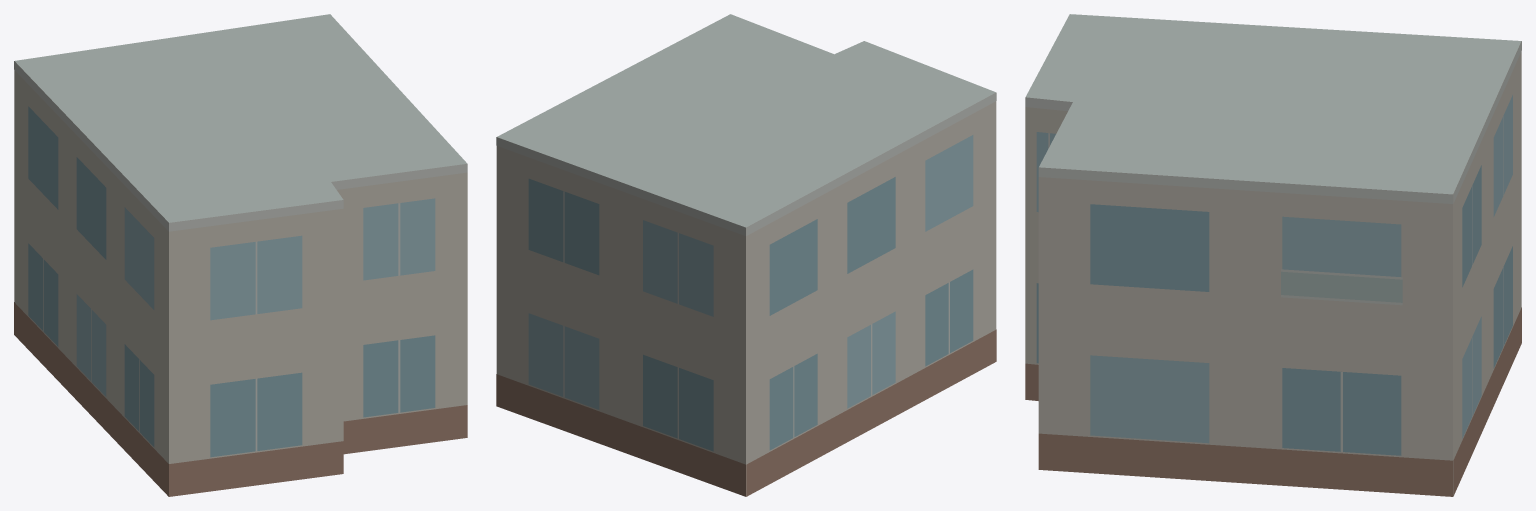
File: survey-upis-32660803.glb
The picture shows the model from 3 angles, left to right: view 1: azimuth 30°, elevation 25°; view 2: azimuth 150°, elevation 25°; view 3: azimuth 270°, elevation 25°; orthographic projection. The views are drawn at different scales.
Visible parts, largest first — view 1: survey-upis-32660803.tmp; view 2: survey-upis-32660803.tmp; view 3: survey-upis-32660803.tmp.
Boxes of the visible parts, <box> form: survey-upis-32660803.tmp: <box>14,14,467,496</box>; survey-upis-32660803.tmp: <box>496,14,996,496</box>; survey-upis-32660803.tmp: <box>1025,14,1521,496</box>.
Bounding box in the file's own units: 9.73 × 7.6 × 11.31.
